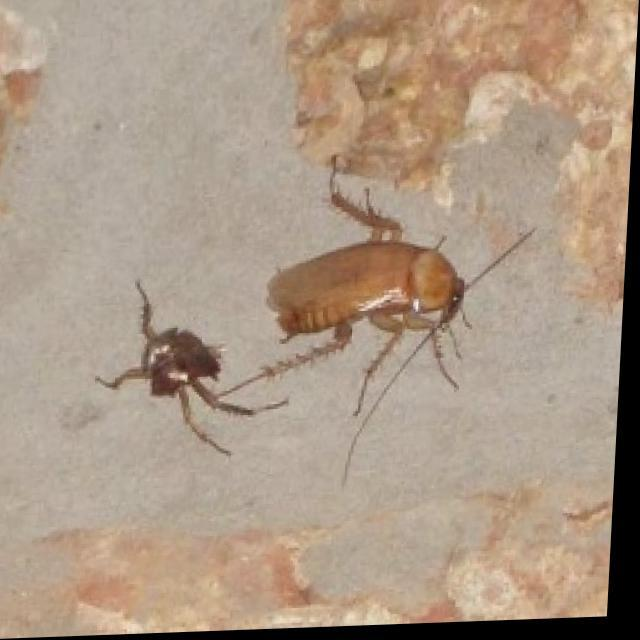cockroach: (238, 197, 542, 390)
